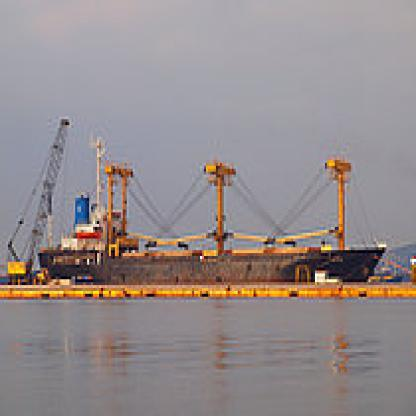Container Ship: (34, 137, 387, 285)
